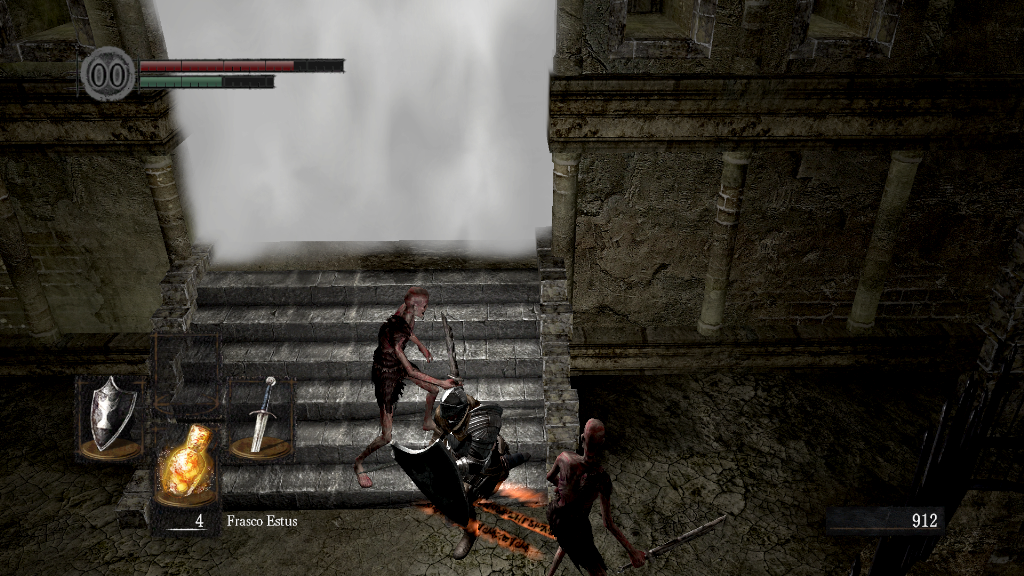health: (138, 58, 343, 71)
hollow: (355, 290, 451, 488), (547, 415, 653, 576)
humanity: (80, 45, 136, 102)
player: (386, 387, 513, 562)
souls: (825, 506, 945, 536)
stamina: (138, 74, 274, 88)
